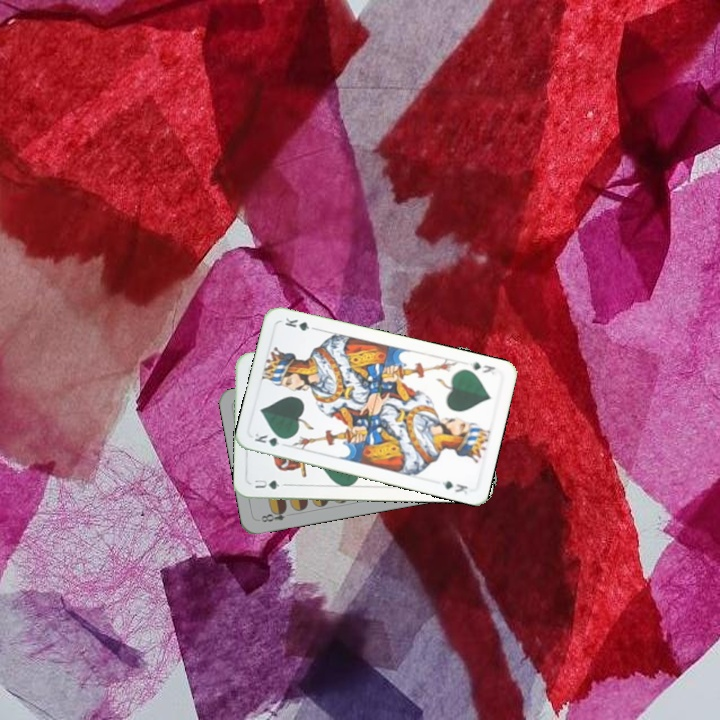E8: (255, 505, 289, 525)
GK: (250, 429, 291, 449), (466, 358, 498, 375)
GU: (250, 476, 282, 492)
